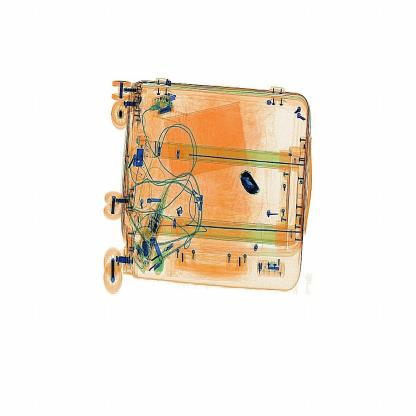scissors: (233, 162, 268, 213)
